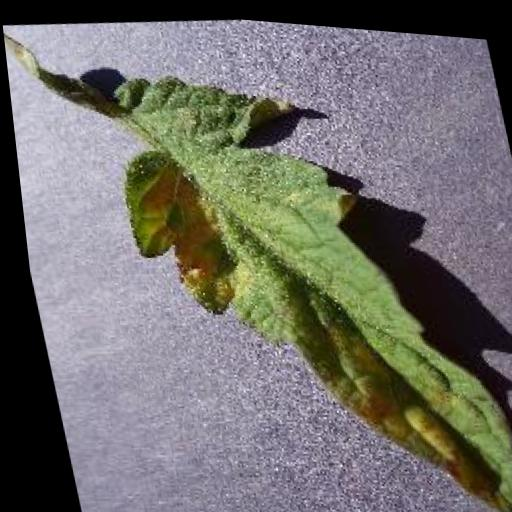Leaf Mold: (90, 41, 512, 512)
